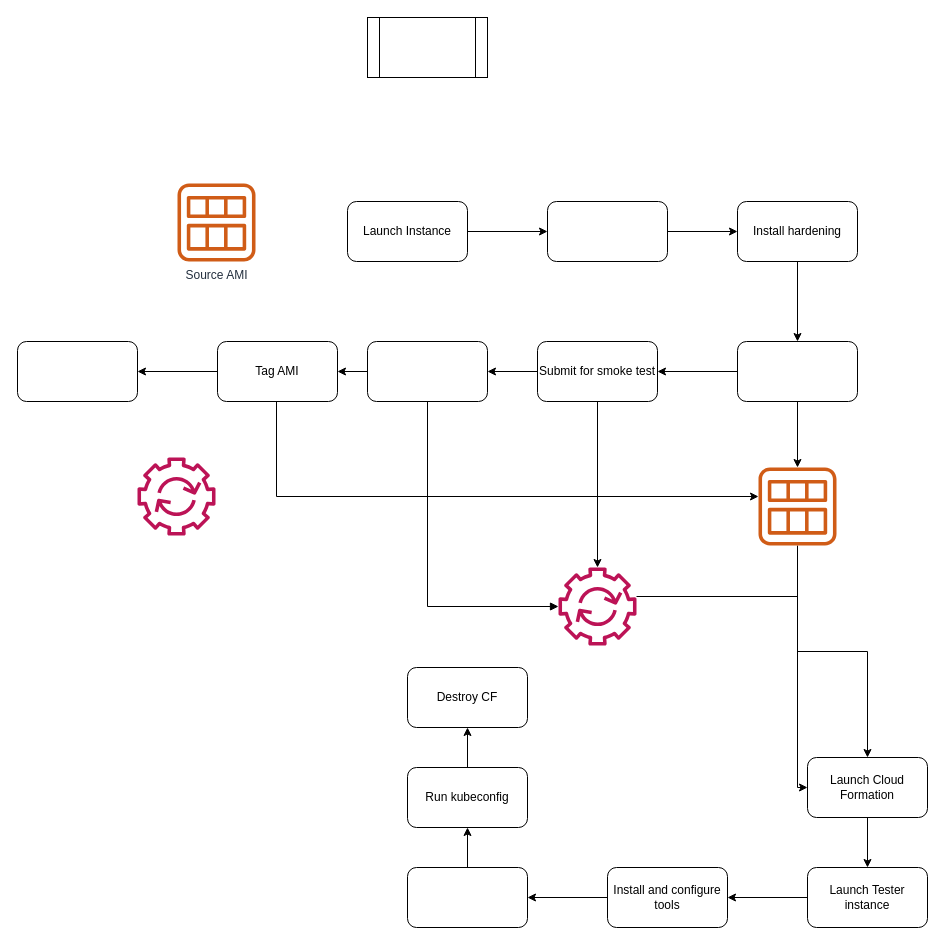
This 945x945 diagram has some shape labels left out. Each missing label, with the centre of its shape:
Create Image: point 797,371
Install Pre-Requisites: point 607,231
Retrive Status: point 427,371
run kubctl commands: point 467,897
Submit to ScanFactory: point 77,371
